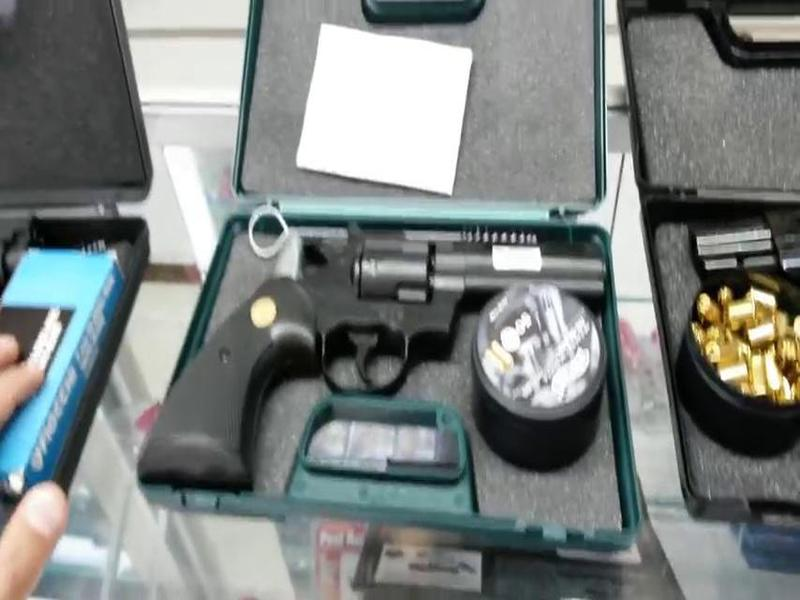Revolver: (137, 213, 643, 507)
